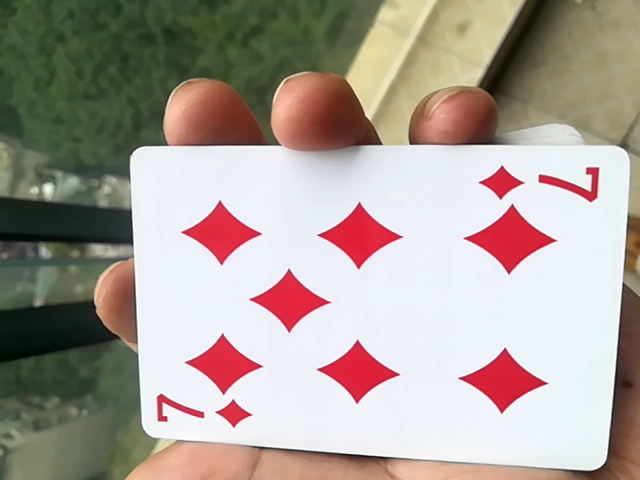fk 7: (120, 147, 625, 476)
